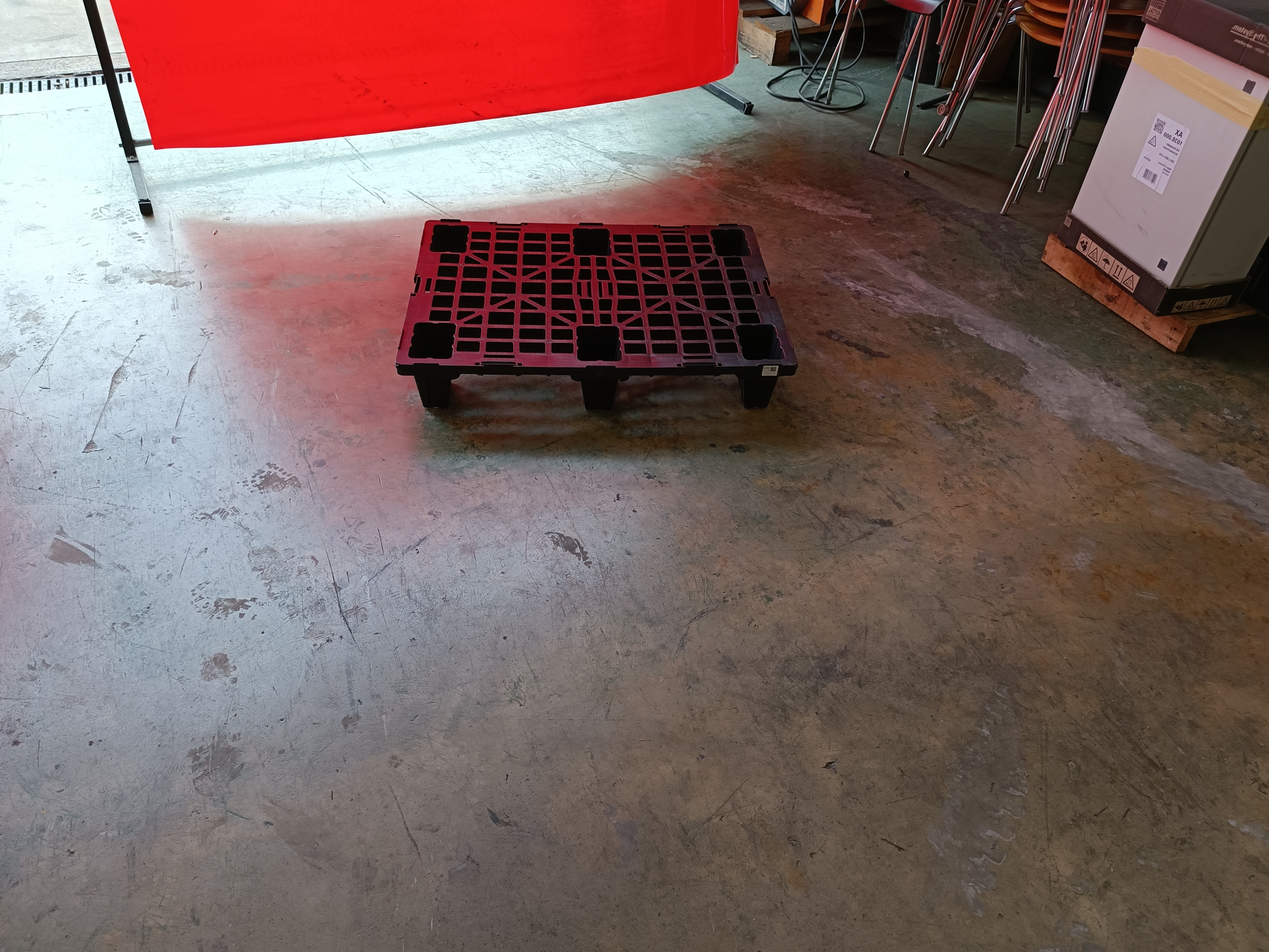block: (574, 375, 626, 424), (739, 367, 789, 411), (412, 375, 457, 417)
front: (393, 364, 803, 434)
hole pallet: (449, 377, 584, 423), (628, 379, 747, 414)
